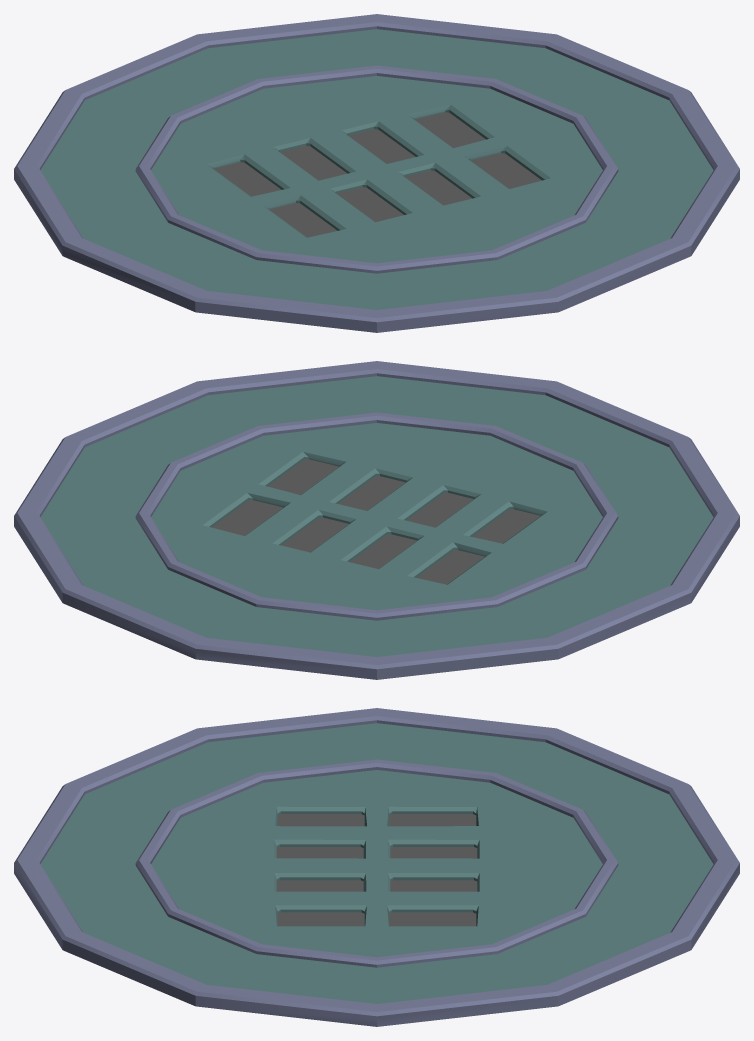
File: Alcantarilla_02.fbx
3 views of the same model, one above another, from view 1: azimuth 30°, elevation 25°; view 2: azimuth 150°, elevation 25°; view 3: azimuth 270°, elevation 25° (orthographic).
Parts seen in each view (by area): view 1: pCylinder8; view 2: pCylinder8; view 3: pCylinder8.
Boxes of the visible parts, x1,y1,x2,y2 form: pCylinder8: [14, 14, 739, 332]; pCylinder8: [14, 361, 739, 679]; pCylinder8: [14, 708, 739, 1026].
Size of the model in its own units: 117 by 2.4 by 117.
